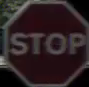Stop: (1, 3, 84, 81)
